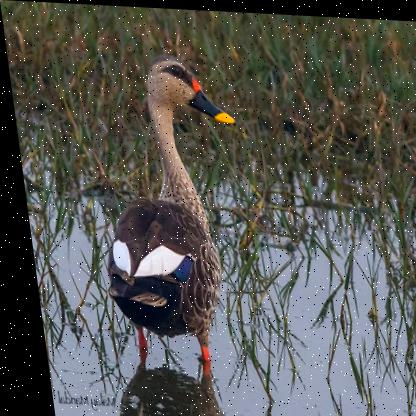Burung: (75, 48, 259, 361)
